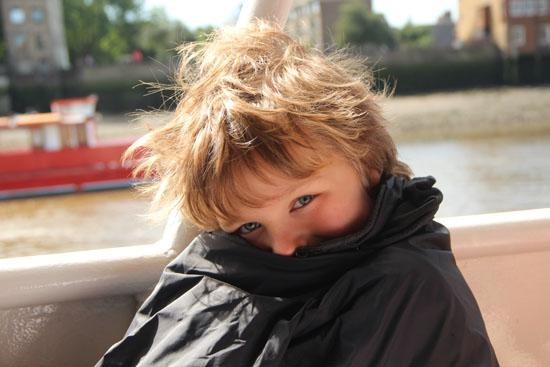WRONG: (226, 171, 344, 289)
